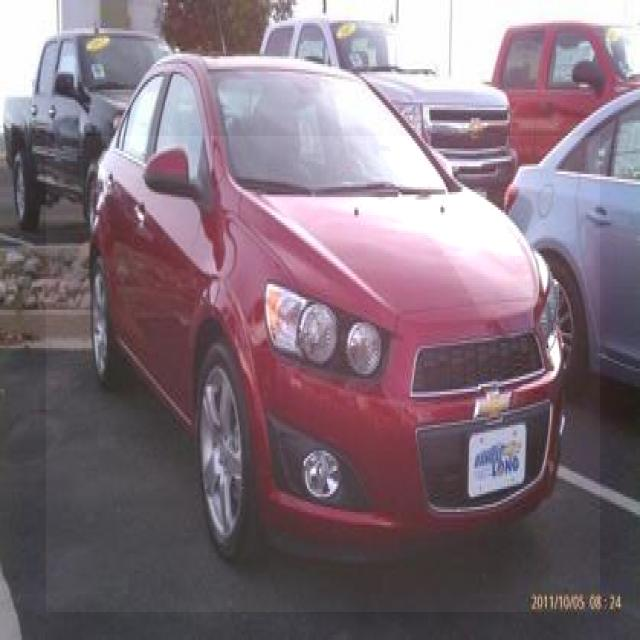Car: (46, 136, 600, 612)
